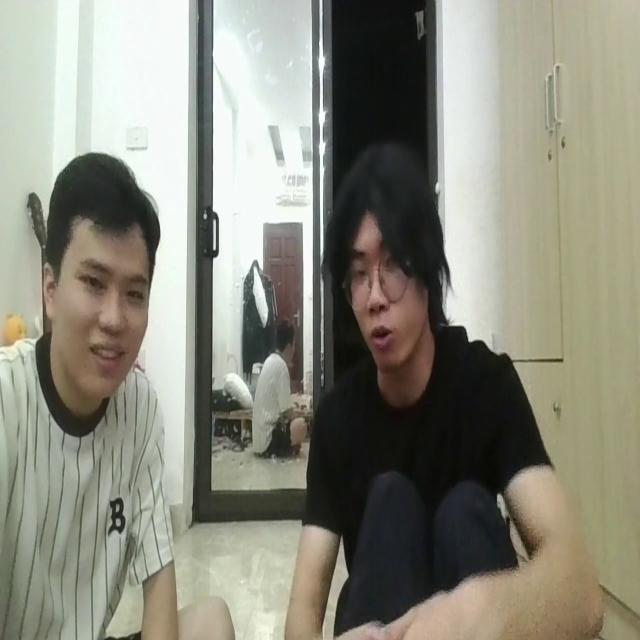extra_person: (0, 143, 229, 640), (256, 313, 310, 465)
student: (298, 130, 600, 640)
